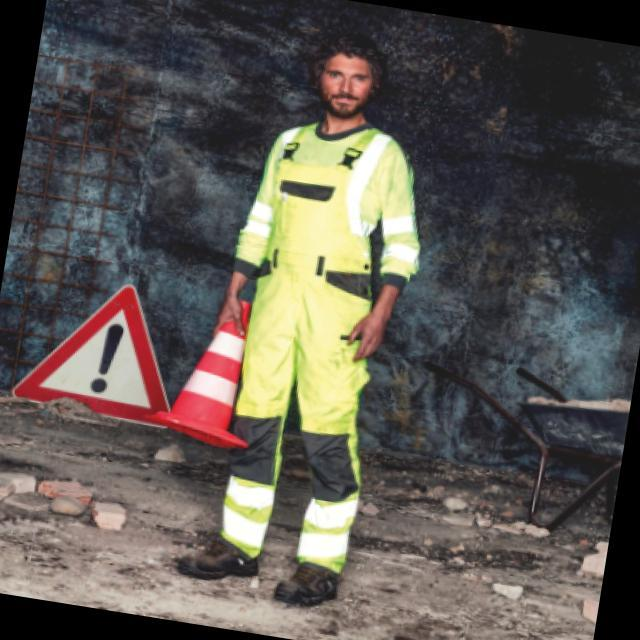shoes: (163, 519, 356, 616)
vest: (255, 107, 408, 300)
